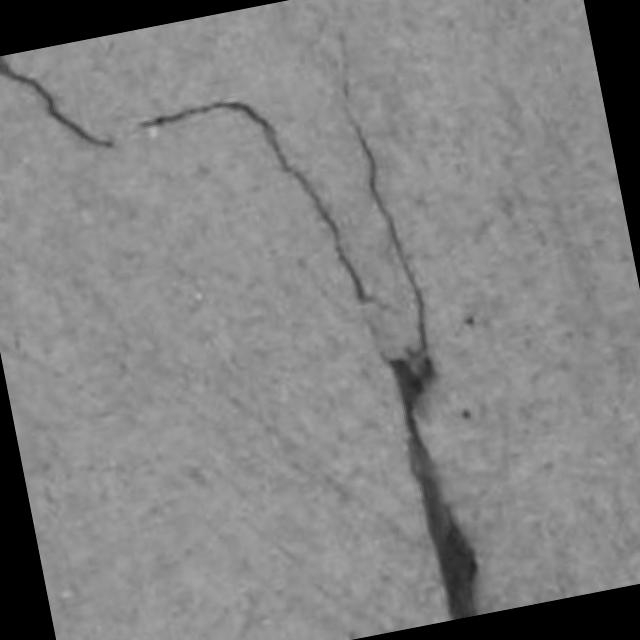crack: (349, 114, 477, 619), (140, 99, 373, 303), (390, 358, 478, 619), (350, 116, 427, 356), (0, 56, 114, 147)
